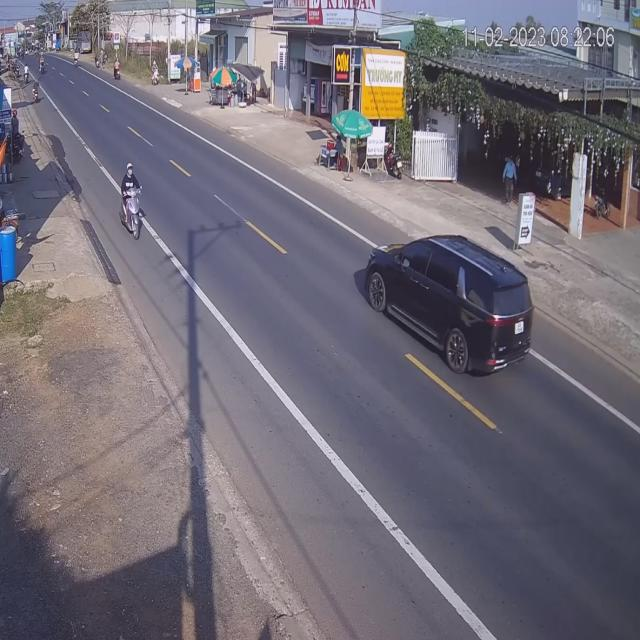car: (360, 228, 534, 378)
motorbike: (120, 160, 146, 239)
